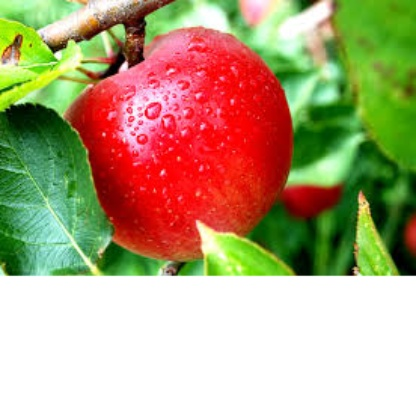tao: (78, 16, 296, 241)
